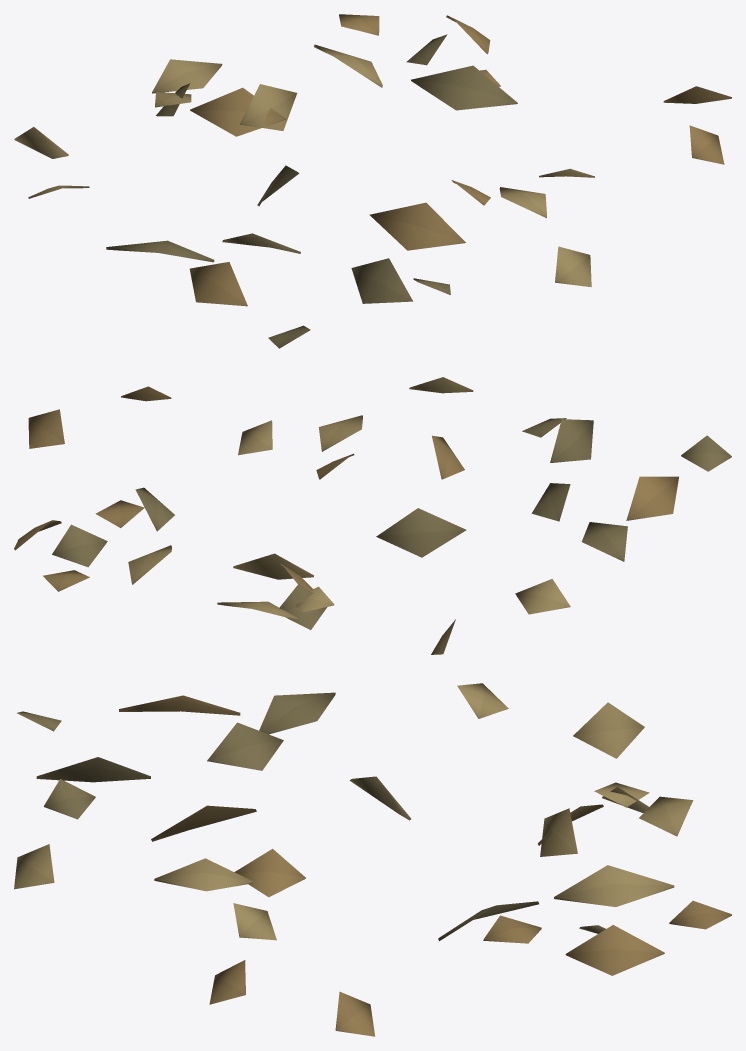
Rendered from Litiere_Feuilles.fbx.
3 views of the same model, one above another, from view 1: azimuth 30°, elevation 25°; view 2: azimuth 150°, elevation 25°; view 3: azimuth 270°, elevation 25° (orthographic). The views are drawn at different scales.
Parts seen in each view (by area): view 1: Litiere_Feuilles; view 2: Litiere_Feuilles; view 3: Litiere_Feuilles.
Boxes of the visible parts, x1,y1,x2,y2 form: Litiere_Feuilles: [14, 14, 731, 348]; Litiere_Feuilles: [14, 377, 731, 654]; Litiere_Feuilles: [14, 683, 731, 1036].
Size of the model in its own units: 69.55 by 5.25 by 62.11.
